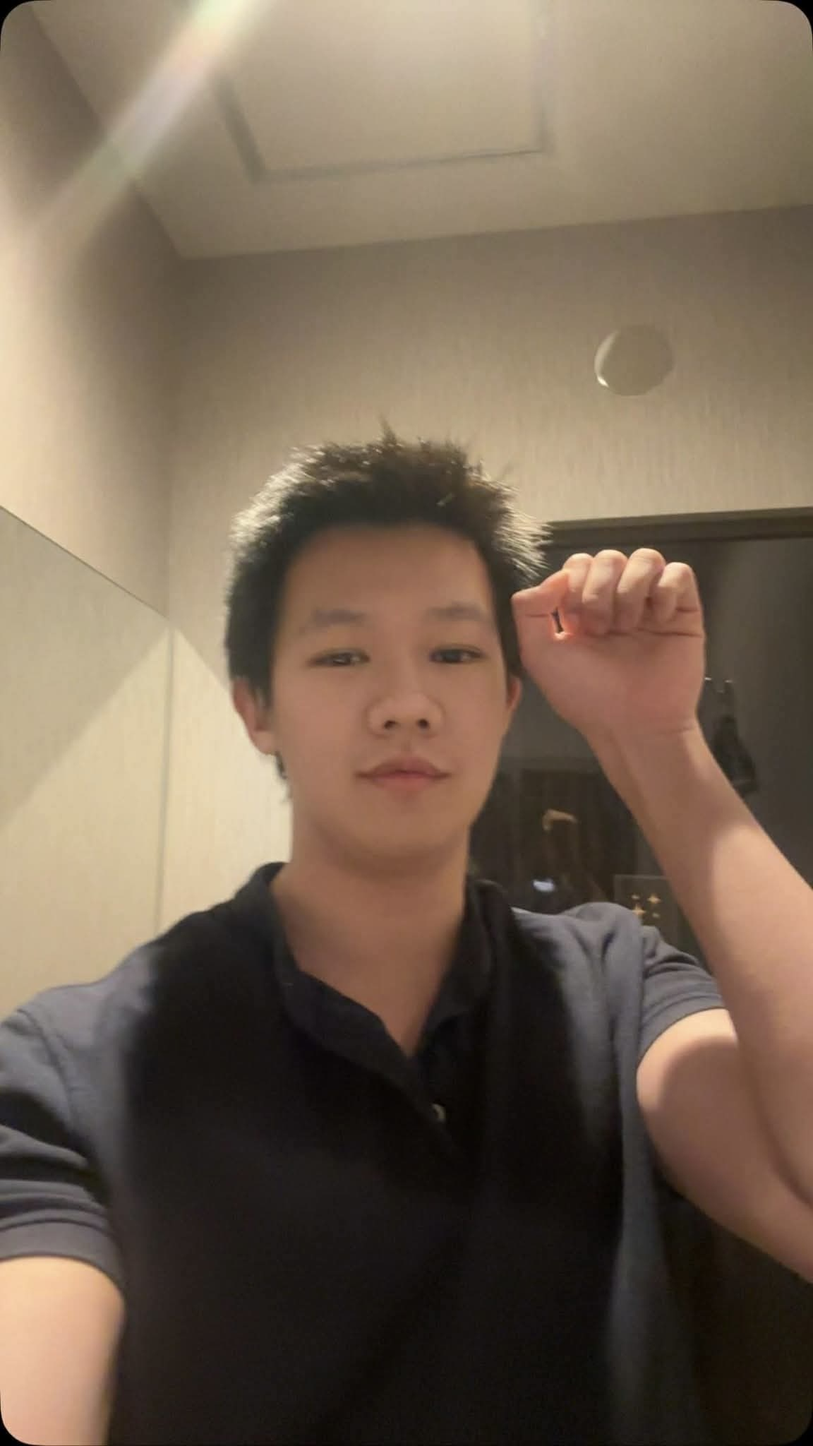right_closed_palm: (530, 551, 682, 731)
